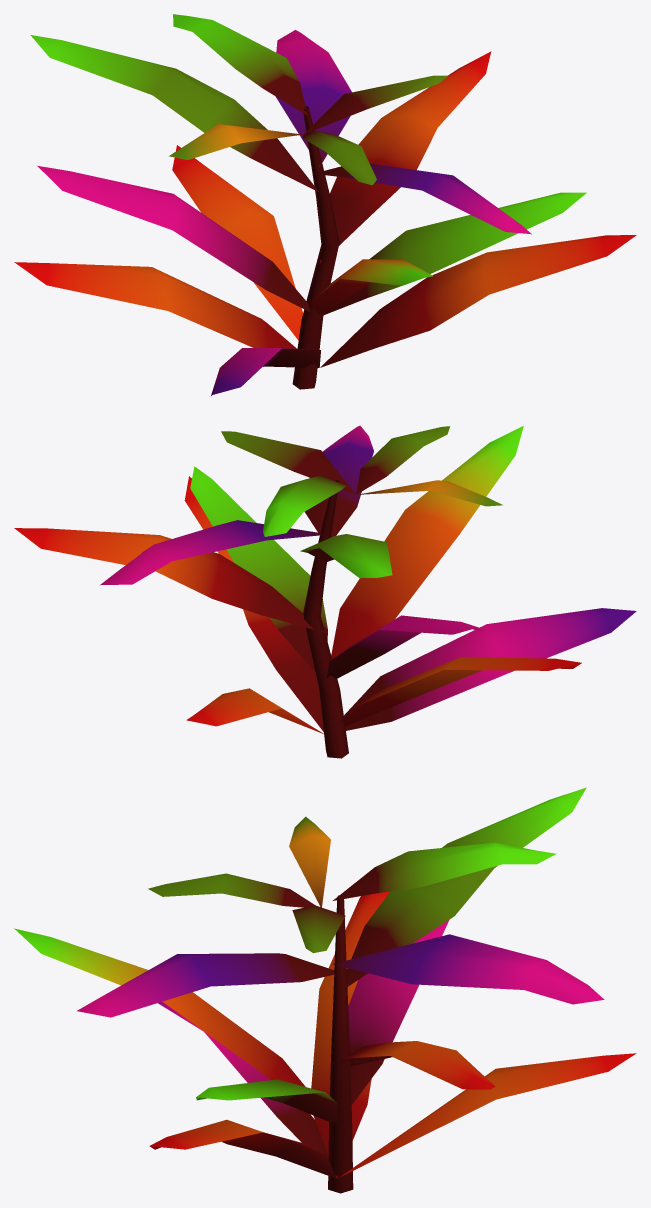
The model's file is foolige test.fbx.
3 renders of one model, top to bottom at view 1: azimuth 30°, elevation 25°; view 2: azimuth 150°, elevation 25°; view 3: azimuth 270°, elevation 25°, orthographic. The views are drawn at different scales.
Visible parts, largest first — view 1: Plant_02; view 2: Plant_02; view 3: Plant_02.
Boxes of the visible parts, box(x1,y1,x2,y2) form: Plant_02: box(14, 14, 636, 395); Plant_02: box(14, 425, 636, 758); Plant_02: box(14, 787, 636, 1193).
Bounding box in the file's own units: 55.5 × 31.59 × 53.85.
